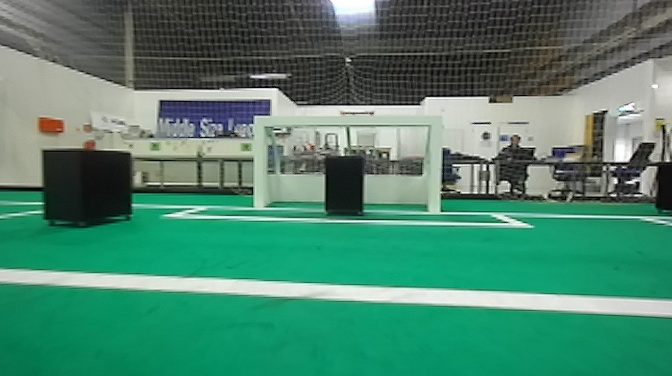goalpost: (423, 111, 447, 211), (252, 118, 269, 206)
